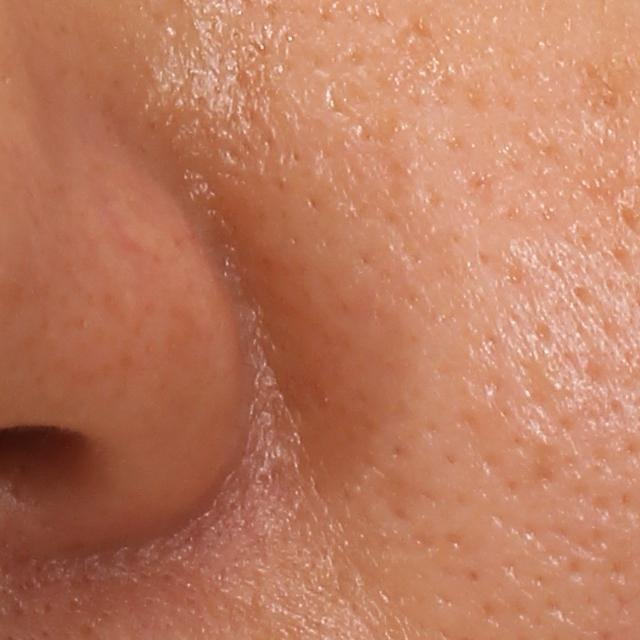melasma: (571, 56, 639, 128)
